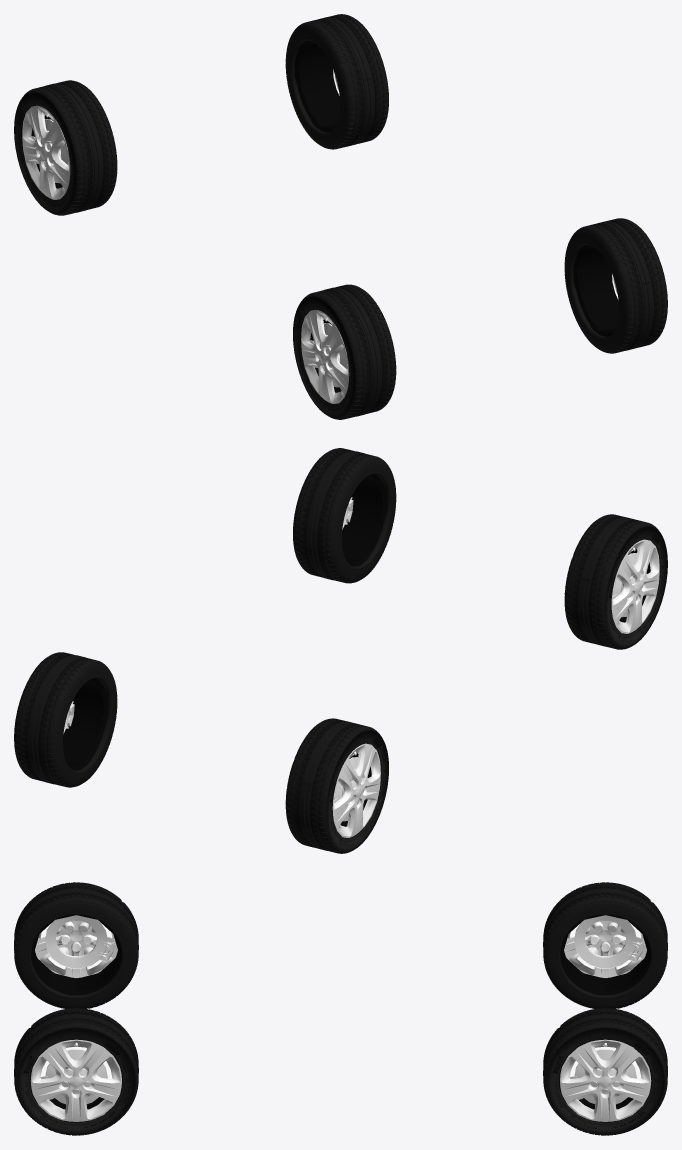
Rendered from Tyres.glb.
3 renders of one model, top to bottom at view 1: azimuth 30°, elevation 25°; view 2: azimuth 150°, elevation 25°; view 3: azimuth 270°, elevation 25°, orthographic. The views are drawn at different scales.
Parts seen in each view (by area): view 1: default13131.001, default13131.003, default13131.002, default13131; view 2: default13131.002, default13131, default13131.001, default13131.003; view 3: default13131.001, default13131, default13131.003, default13131.002.
Boxes of the visible parts, box(x1,y1,x2,y2) form: default13131.001: box(564, 218, 667, 353); default13131.003: box(14, 80, 117, 215); default13131.002: box(293, 284, 396, 419); default13131: box(285, 14, 388, 149); default13131.002: box(564, 514, 667, 649); default13131: box(14, 652, 117, 787); default13131.001: box(293, 448, 396, 583); default13131.003: box(285, 718, 388, 853); default13131.001: box(14, 1008, 138, 1135); default13131: box(543, 1008, 667, 1135); default13131.003: box(543, 882, 667, 1008); default13131.002: box(14, 882, 138, 1008).
Bounding box in the file's own units: 1.85 × 0.657 × 3.47.
Materials: 4 (2 with a texture image).
